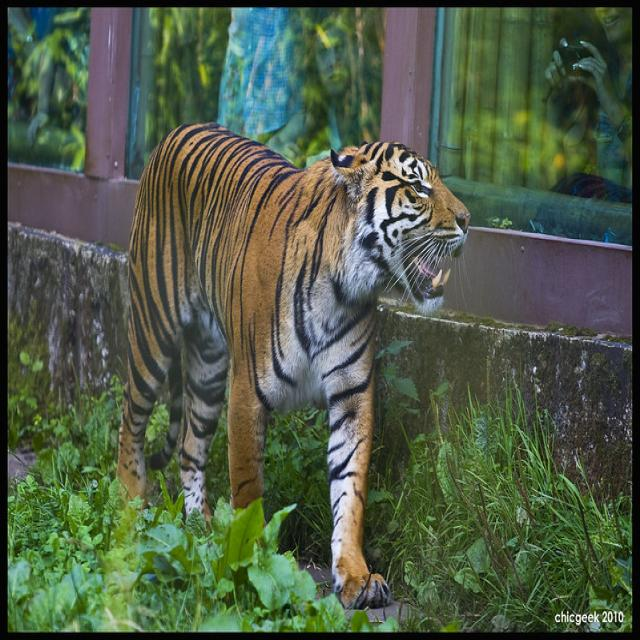Tiger: (116, 118, 470, 611)
